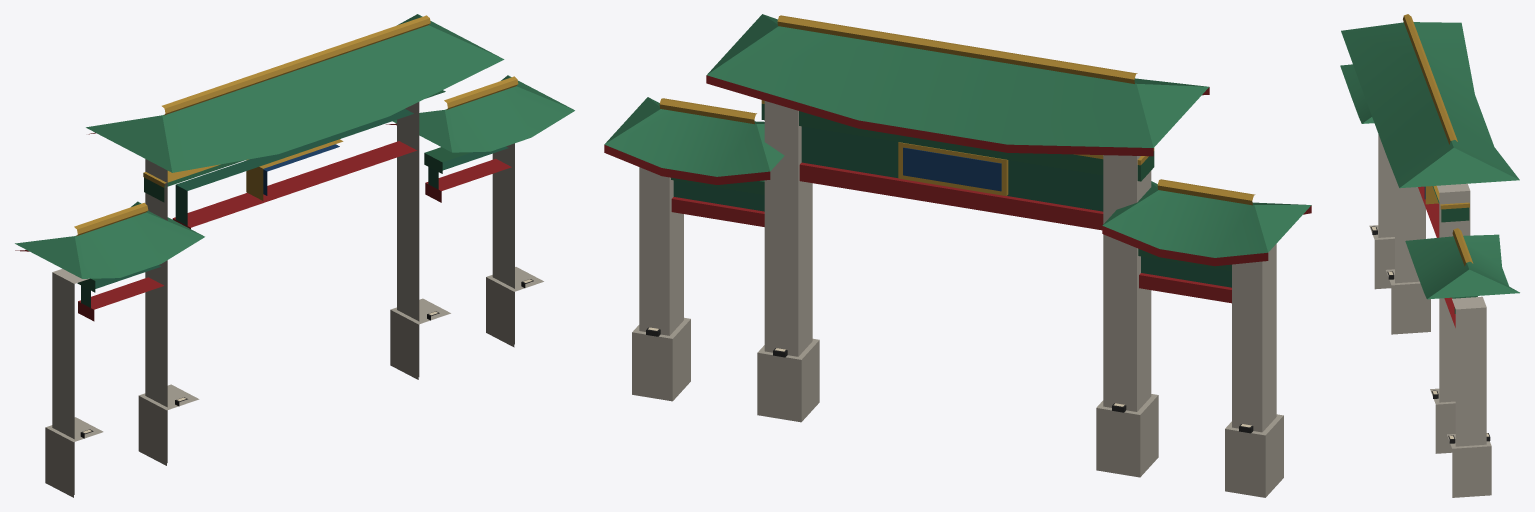
Rendered from ct_gate_lod1.glb.
3 views of the same model, side by side, from view 1: azimuth 30°, elevation 25°; view 2: azimuth 150°, elevation 25°; view 3: azimuth 270°, elevation 25° (orthographic). The views are drawn at different scales.
Parts seen in each view (by area): view 1: L1_rooftile, L1_stone, L1_paint, L1_d_gold, L1_d_paint; view 2: L1_rooftile, L1_stone, L1_paint, L1_d_paint, L1_d_gold; view 3: L1_rooftile, L1_stone, L1_d_gold, L1_paint, L1_d_paint.
Boxes of the visible parts, bbox=[...] form: L1_rooftile: bbox=[15, 14, 574, 278]; L1_stone: bbox=[45, 102, 543, 497]; L1_paint: bbox=[77, 90, 511, 321]; L1_d_gold: bbox=[74, 15, 518, 236]; L1_d_paint: bbox=[15, 123, 396, 251]; L1_rooftile: bbox=[604, 14, 1311, 257]; L1_stone: bbox=[632, 101, 1283, 497]; L1_paint: bbox=[671, 103, 1231, 303]; L1_d_paint: bbox=[604, 75, 1311, 266]; L1_d_gold: bbox=[659, 15, 1255, 205]; L1_rooftile: bbox=[1340, 22, 1519, 299]; L1_stone: bbox=[1369, 134, 1491, 497]; L1_d_gold: bbox=[1403, 14, 1473, 266]; L1_paint: bbox=[1418, 186, 1477, 327]; L1_d_paint: bbox=[1424, 185, 1469, 209].
Size of the model in its own units: 19.88 by 11.9 by 6.33.
